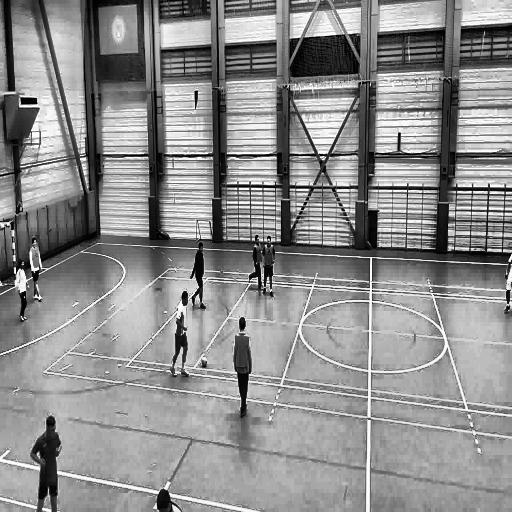ball: (200, 354, 209, 372)
player: (30, 416, 60, 512), (232, 314, 254, 421), (169, 290, 190, 385), (190, 238, 208, 312), (15, 259, 31, 324), (262, 234, 278, 298), (248, 232, 264, 295), (30, 237, 44, 303)
